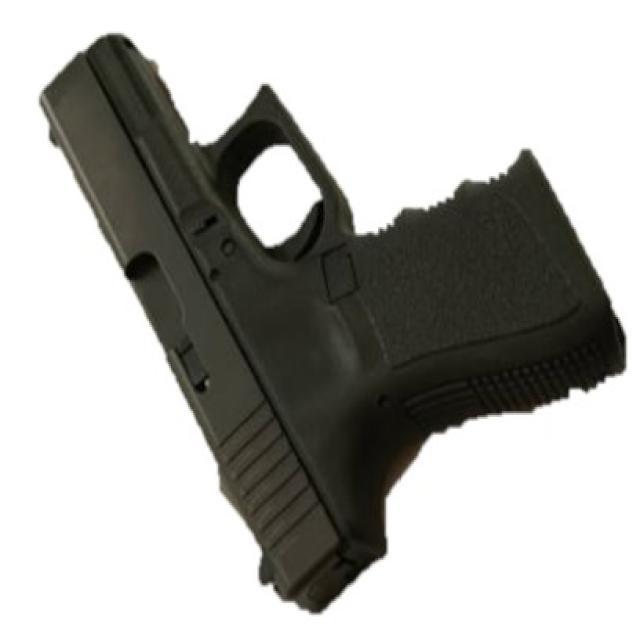pistol: (38, 28, 635, 626)
